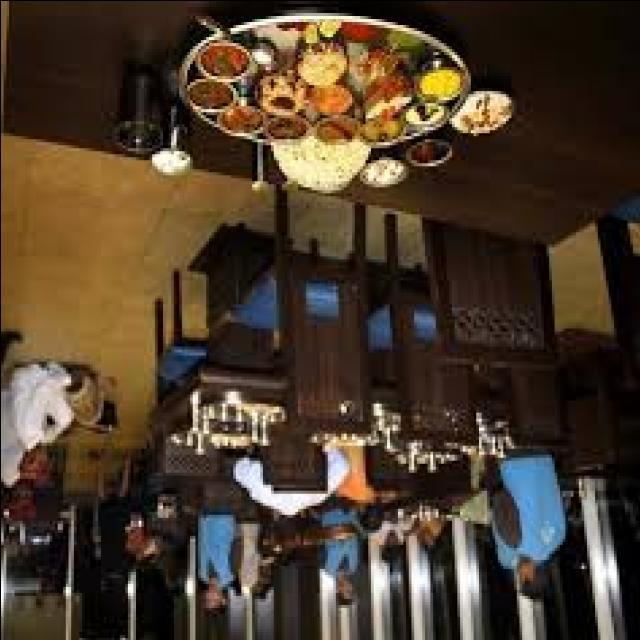dal: (418, 62, 471, 104), (399, 136, 455, 171)
papad: (271, 127, 369, 197)
pickle: (0, 478, 65, 549), (116, 502, 175, 572)
raita: (492, 444, 573, 571), (3, 359, 82, 449)
rice: (3, 356, 81, 452), (268, 128, 370, 199)
sambar-rasam: (180, 38, 259, 83), (177, 74, 249, 113), (400, 135, 455, 167)
sweet: (490, 445, 572, 569), (181, 69, 243, 115)
